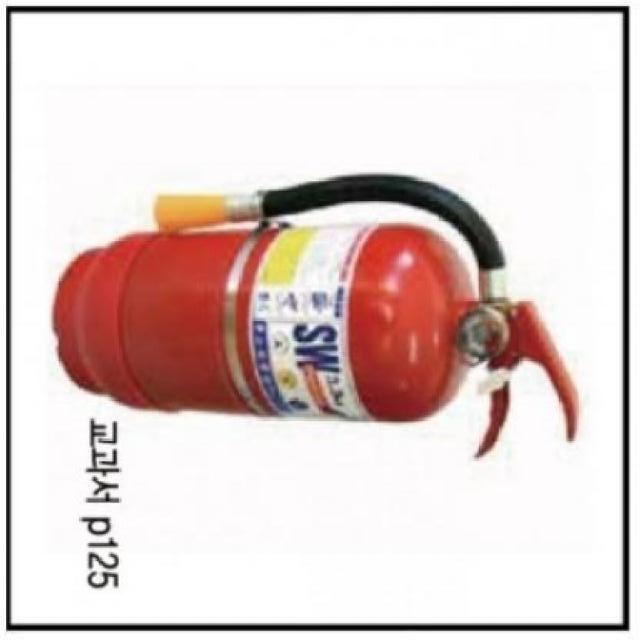fire extinguisher: (52, 172, 583, 459)
